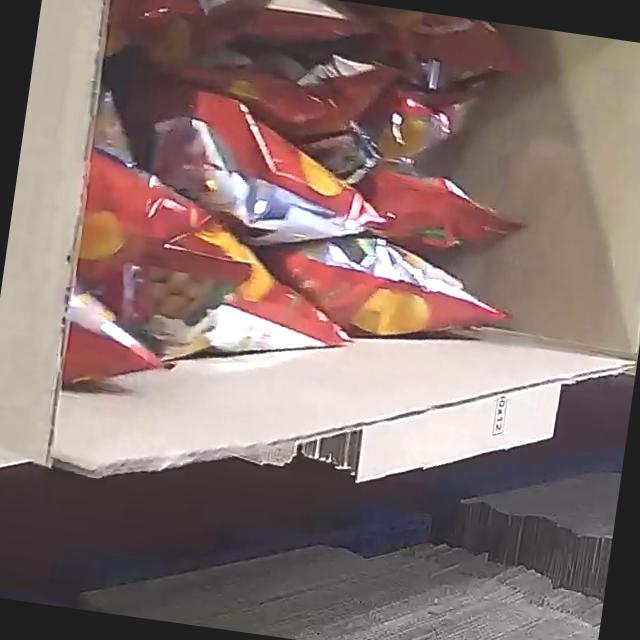masala: (63, 0, 557, 403)
